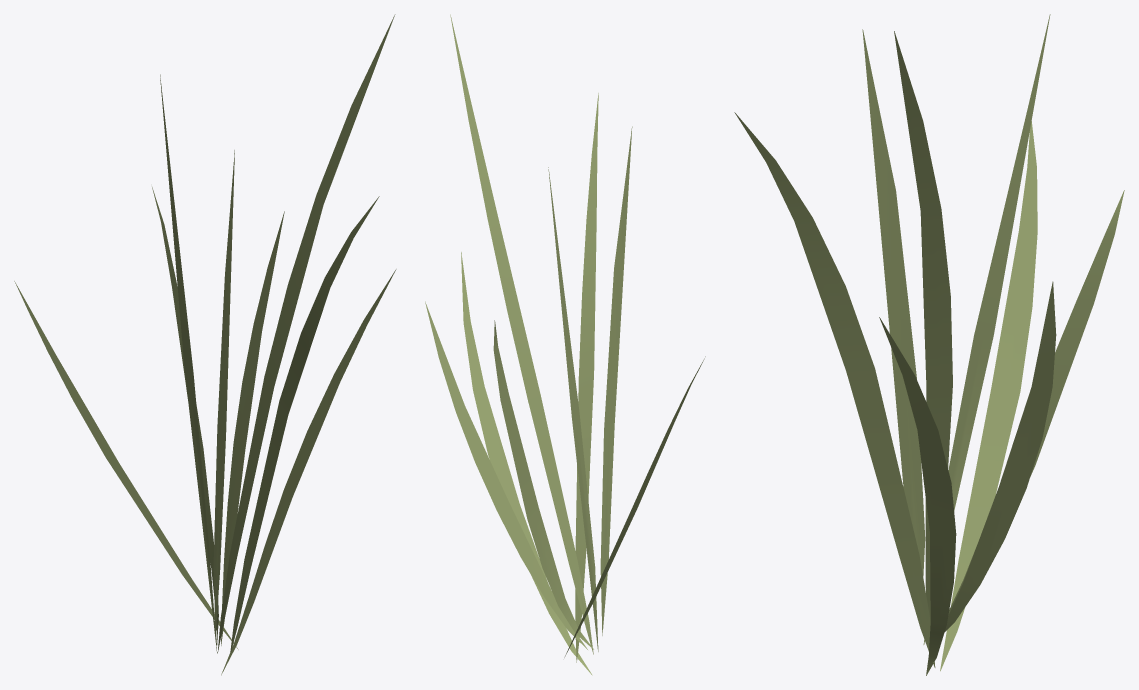
Rendered from grass 1.fbx.
3 views of the same model, side by side, from view 1: azimuth 30°, elevation 25°; view 2: azimuth 150°, elevation 25°; view 3: azimuth 270°, elevation 25° (orthographic). The views are drawn at different scales.
Visible parts, largest first — view 1: grass; view 2: grass; view 3: grass.
Boxes of the visible parts, left/top/right/bottom form: grass: left=14, top=14, right=396, bottom=675; grass: left=425, top=14, right=705, bottom=675; grass: left=734, top=14, right=1124, bottom=675.
Size of the model in its own units: 37.08 by 69.6 by 33.44.
